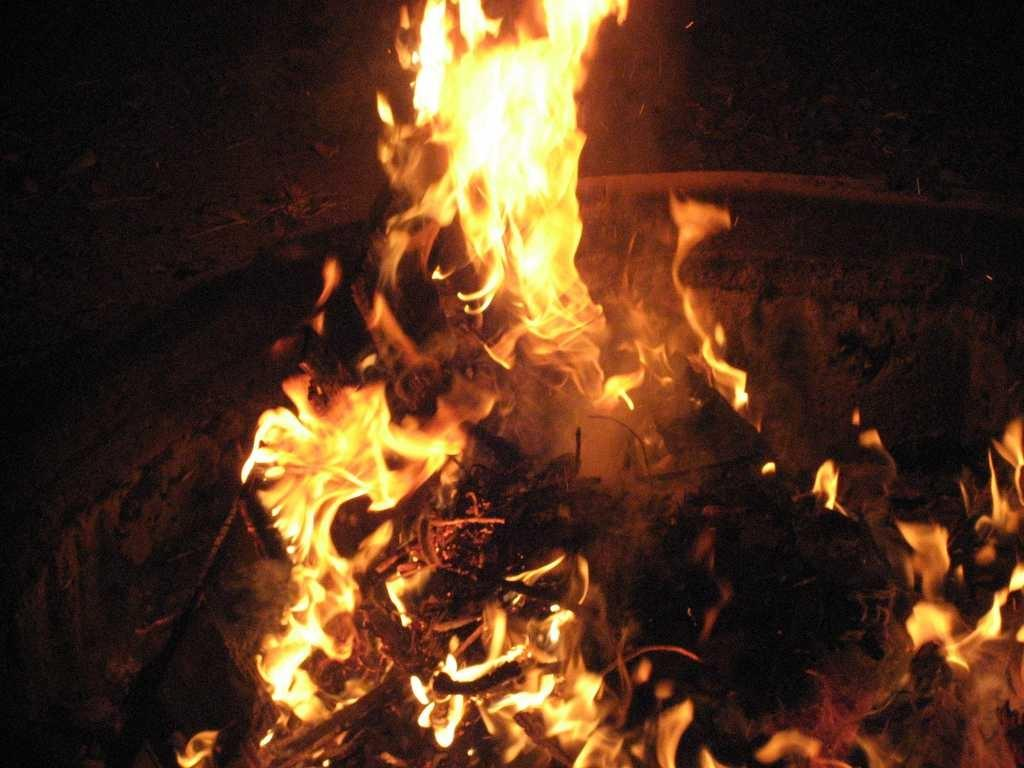fire: (470, 66, 578, 278), (266, 410, 402, 516)
